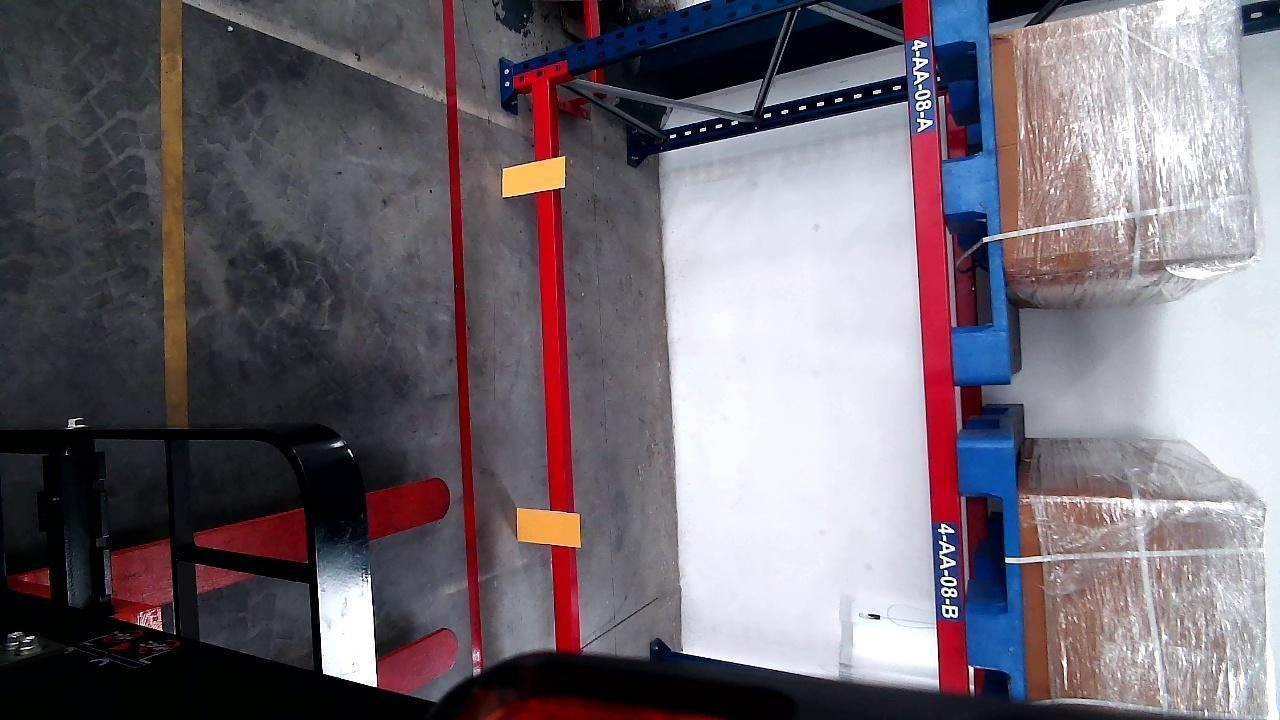red_line: (441, 0, 483, 673)
yellow_line: (161, 2, 189, 423)
